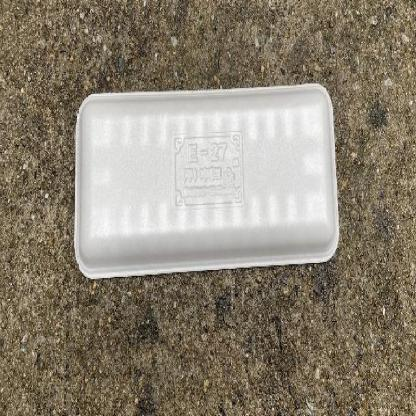Glass Cup: (73, 83, 340, 281), (74, 83, 340, 279)
